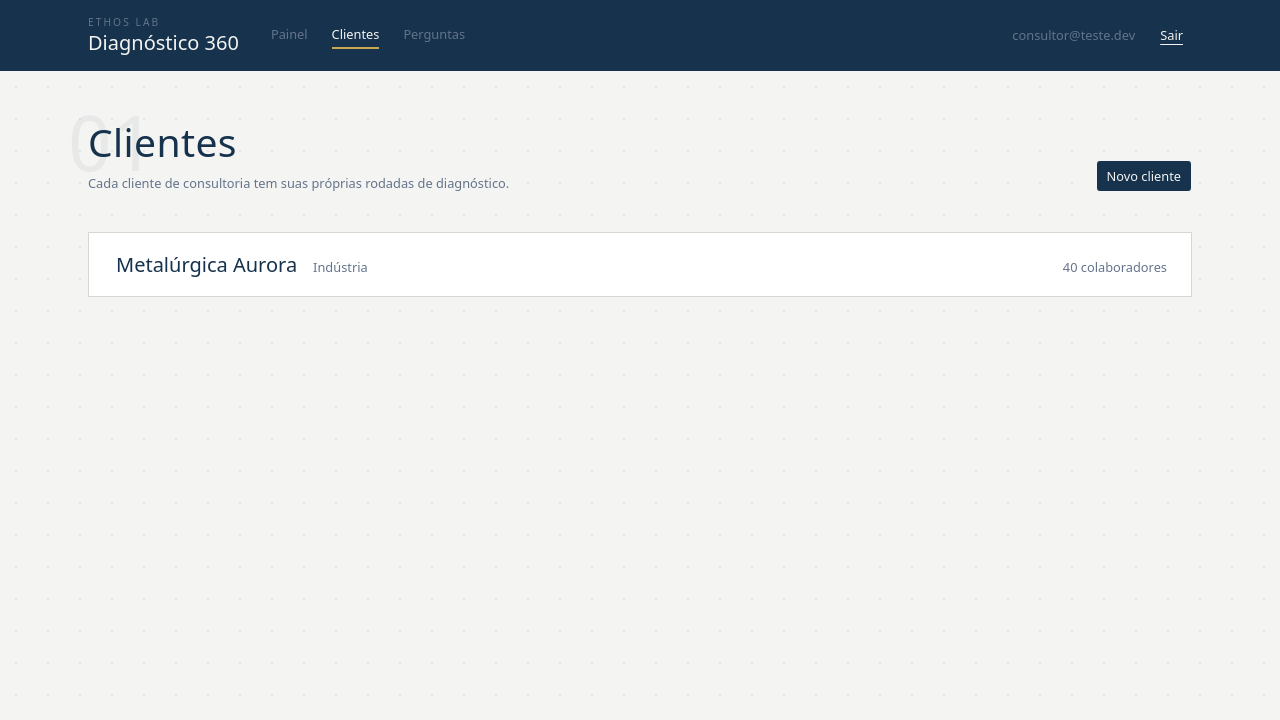
it: ClientesPage › não envia cliente sem nome
Click the button "Novo cliente".
click(1144, 176)  # box 1096,160 -> 1192,192
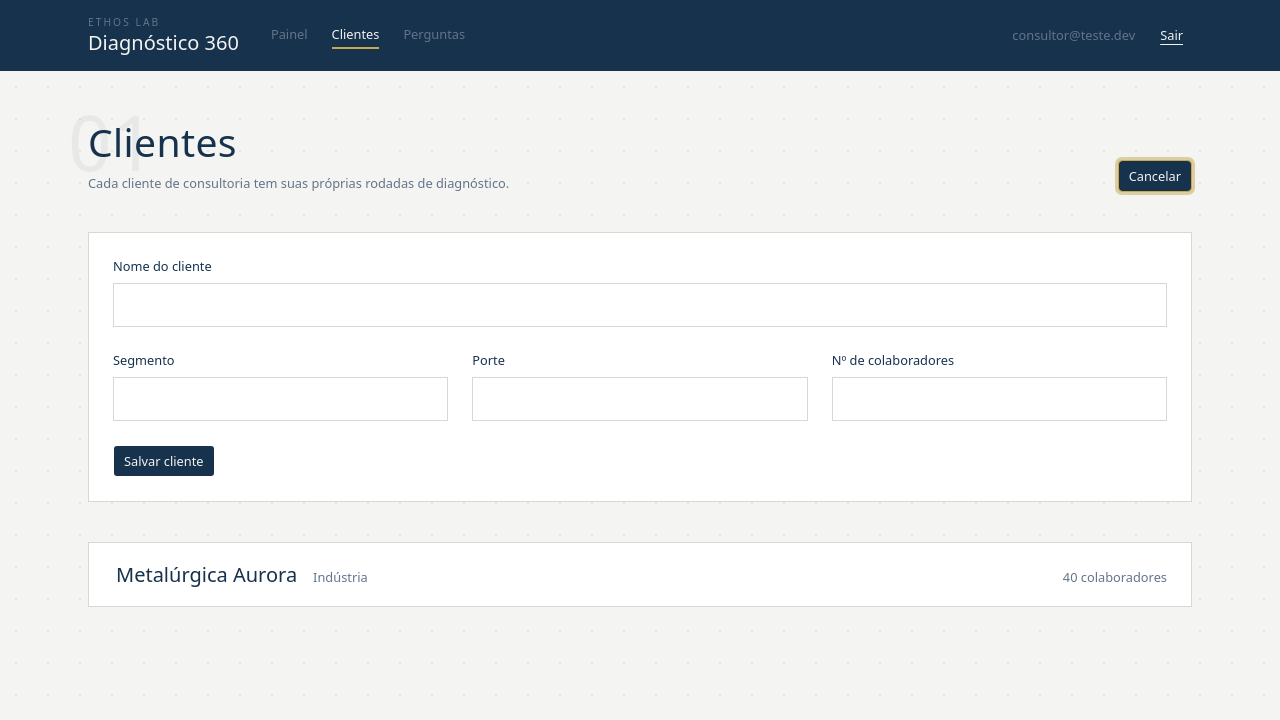
Click the button "Salvar cliente".
click(164, 461)  # box 113,445 -> 214,477
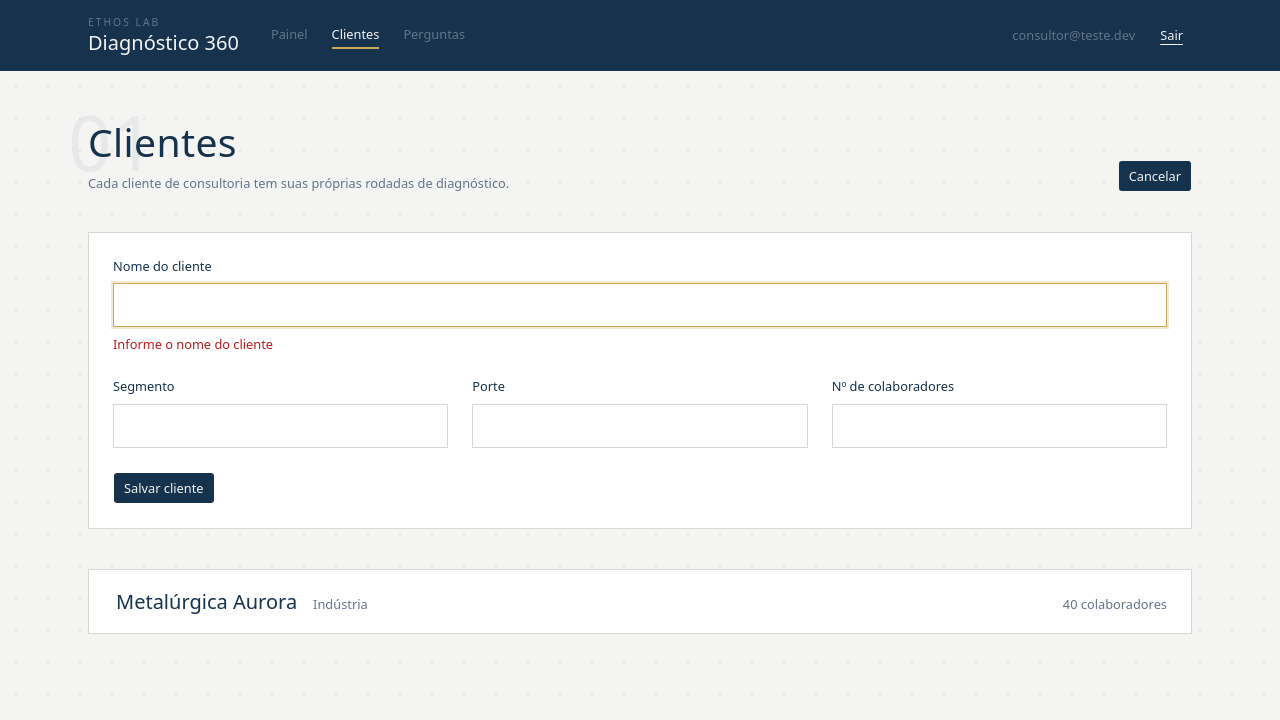
Result: the text "Informe o nome do cliente" is shown at 113,335 -> 273,353
